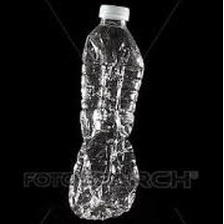bottle: (65, 0, 149, 221)
